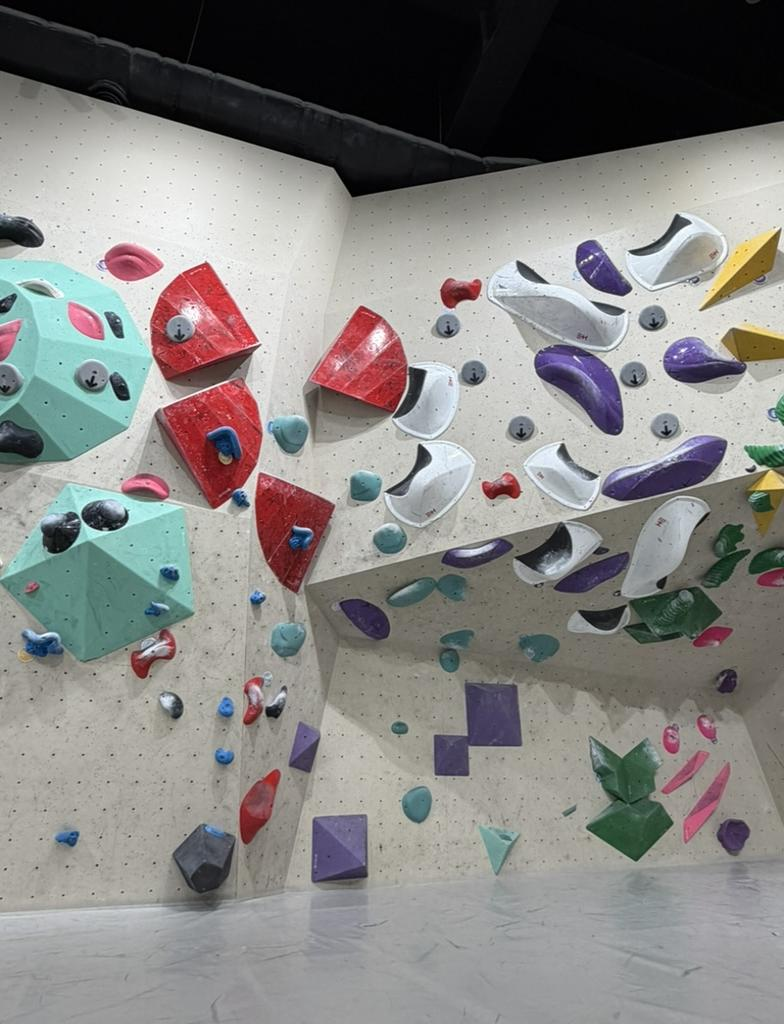crimp: (18, 278, 62, 297)
downhold: (75, 359, 108, 391), (165, 315, 193, 343), (0, 362, 23, 396), (650, 412, 679, 437), (620, 361, 647, 387), (638, 305, 666, 330), (460, 360, 486, 385), (508, 415, 534, 439), (435, 313, 459, 337)
jib: (55, 830, 79, 846), (232, 489, 248, 507), (218, 697, 233, 715), (214, 750, 233, 764), (249, 590, 265, 605), (392, 720, 406, 733)
jug: (443, 538, 511, 569), (651, 590, 692, 629), (267, 415, 308, 453), (387, 578, 435, 606), (206, 426, 241, 460), (272, 622, 305, 657), (22, 629, 62, 656), (349, 470, 381, 502), (374, 523, 406, 553), (437, 574, 463, 601), (289, 525, 312, 549), (441, 649, 459, 671), (145, 603, 168, 616), (160, 564, 178, 580)
ledge: (157, 379, 261, 506), (487, 261, 628, 352), (311, 306, 406, 412), (255, 473, 333, 592), (621, 496, 708, 598), (602, 436, 726, 500), (626, 214, 727, 290), (385, 442, 473, 527), (514, 523, 601, 584), (524, 443, 599, 509), (683, 763, 729, 842), (105, 242, 162, 280), (662, 751, 708, 793), (568, 604, 629, 634), (441, 278, 481, 307)
pinch: (131, 629, 176, 678), (482, 472, 520, 499), (243, 678, 262, 724)
pocket: (663, 724, 679, 753)
sidepull: (393, 362, 458, 440), (589, 737, 662, 802), (576, 240, 630, 295), (68, 302, 103, 339)
sloper: (41, 511, 81, 553), (82, 499, 128, 531)
tape: (218, 452, 233, 464)
undercling: (151, 263, 259, 378), (535, 344, 623, 434), (121, 474, 168, 499)
volume: (2, 484, 193, 660), (0, 260, 152, 464), (588, 799, 672, 860), (632, 587, 721, 639), (174, 824, 235, 893), (311, 816, 366, 881), (466, 684, 520, 745), (480, 825, 519, 874), (289, 722, 320, 772), (435, 735, 468, 776)
